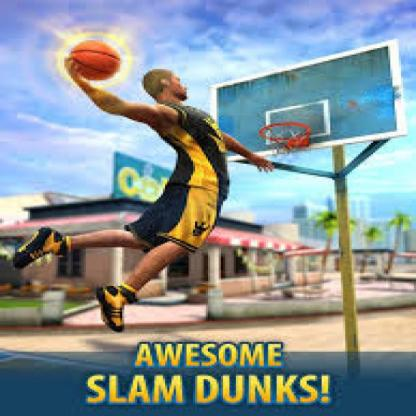basketball: (68, 40, 122, 80)
rim: (260, 122, 314, 141)
